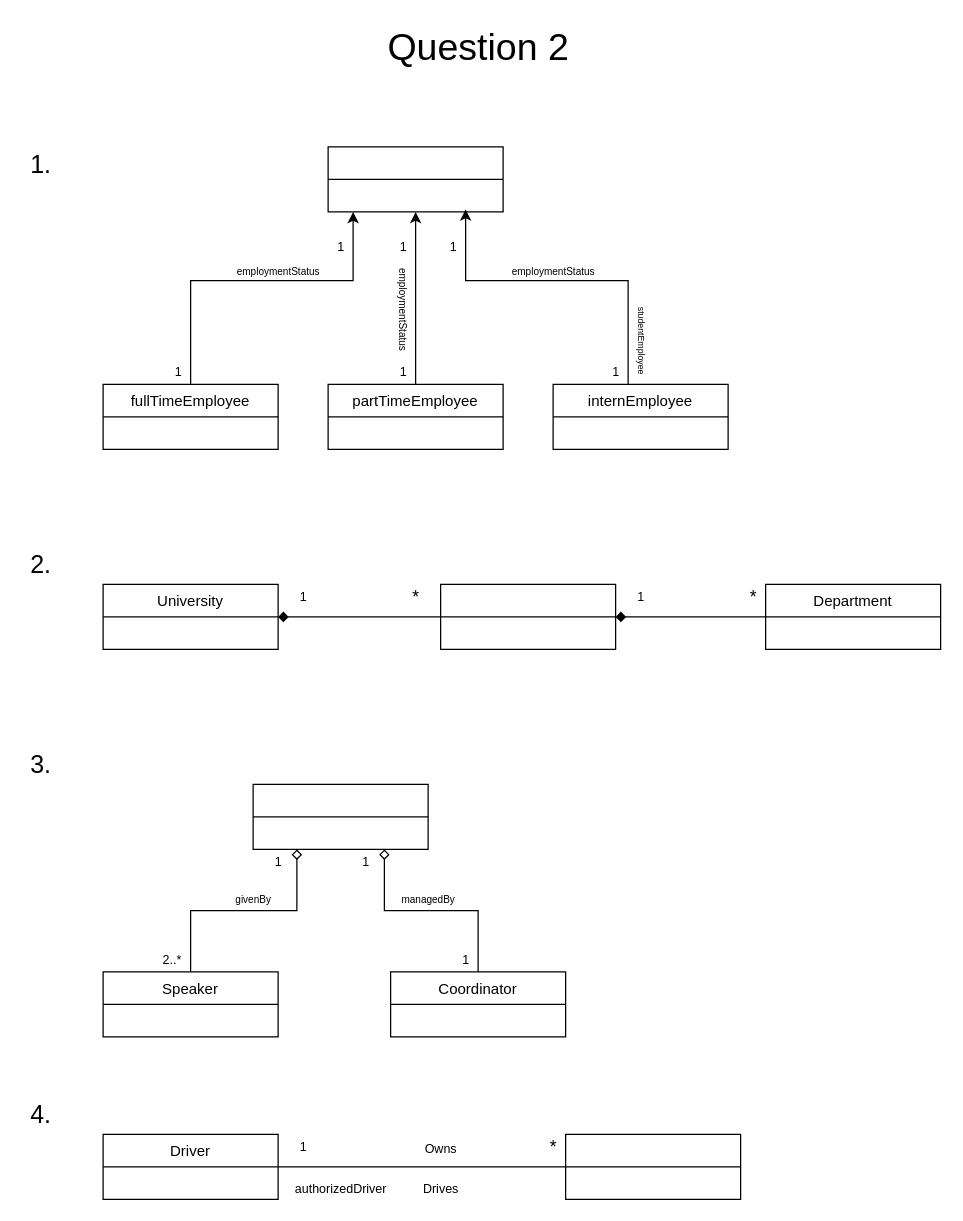
The diagram is 963 pixels wide and 1221 high, and some of its shapes have lost their labels. The shapes that lost their labels are listed below. From the top down, each one's box as (x1, y1, x2, y2) in pixels, then its label:
(327, 146, 503, 212): Employee
(439, 583, 616, 649): College
(252, 783, 428, 849): Seminar
(564, 1133, 741, 1199): Cars
